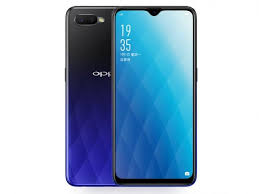oppo: (112, 2, 198, 188), (64, 4, 118, 187)
